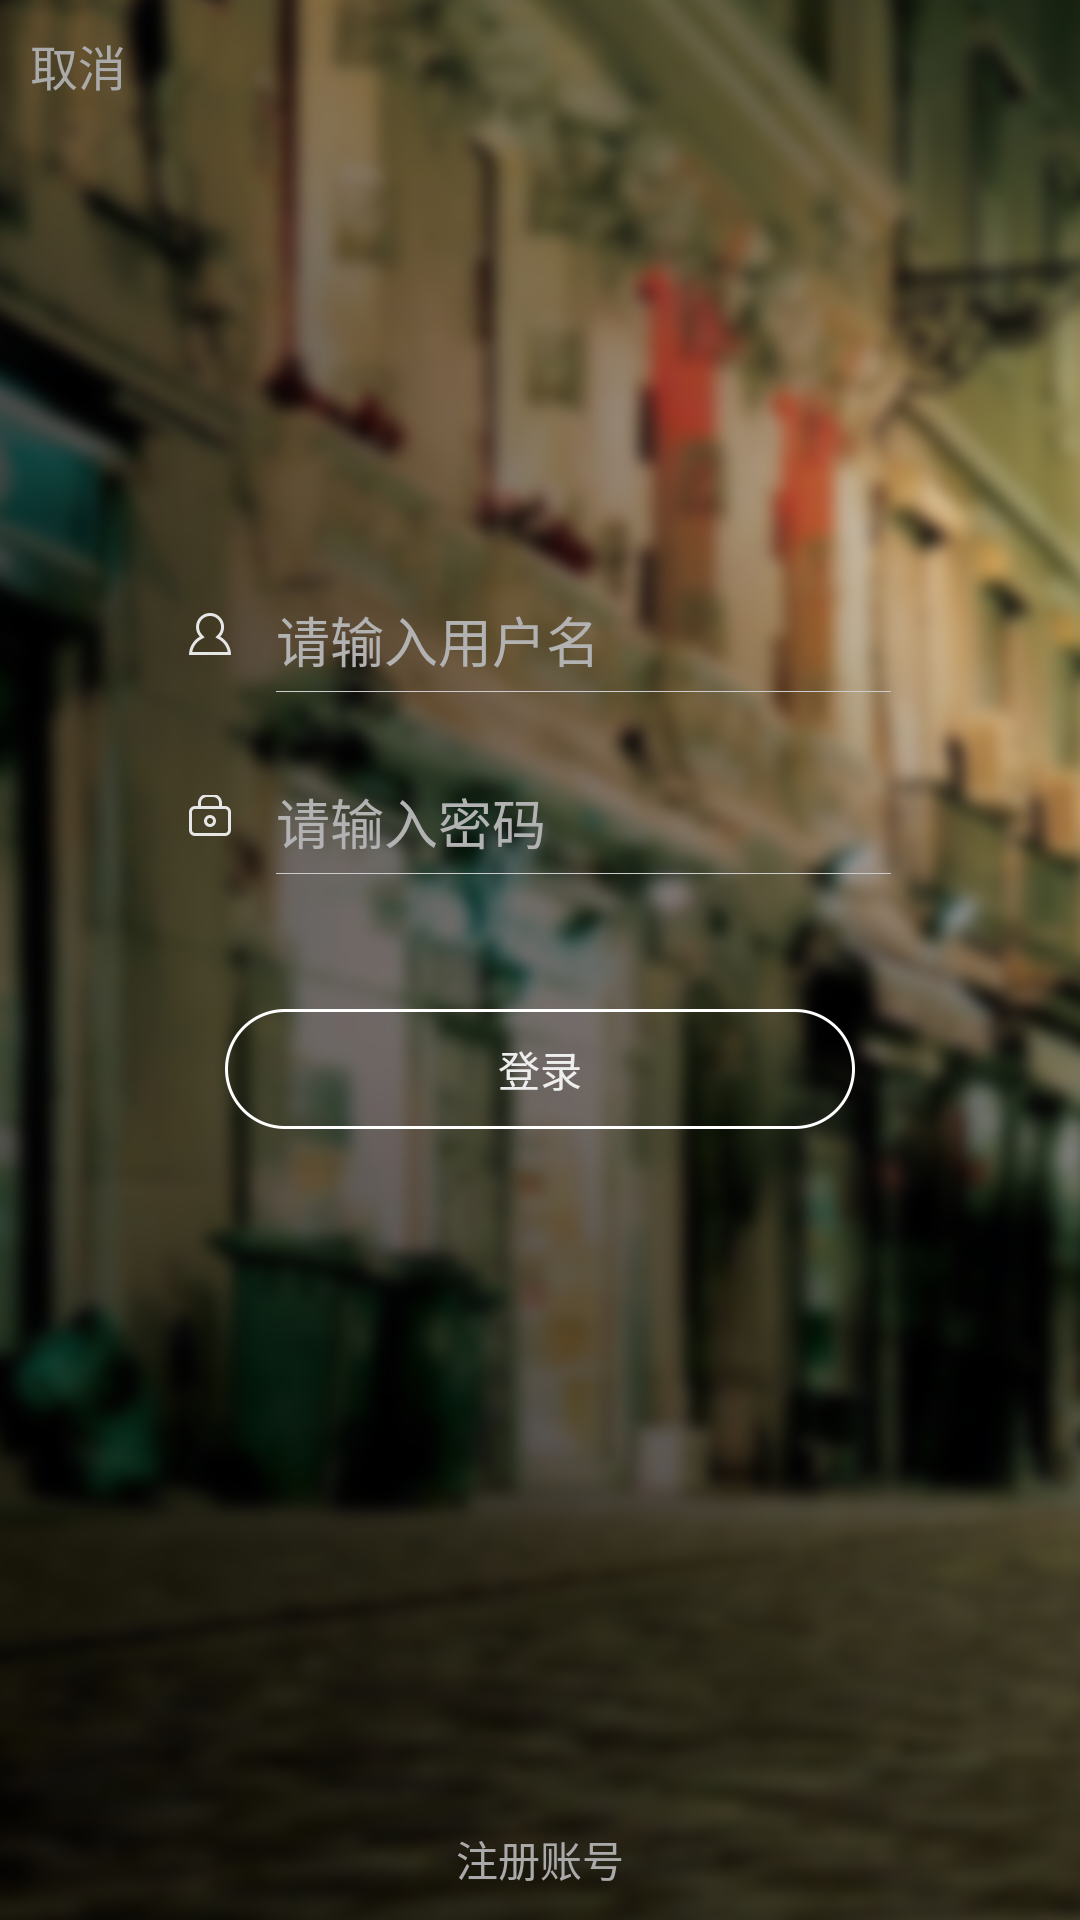

Icon click points for this 1080px×1920px phone screenshot, format point (x, y):
activity login password: point (210, 815)
